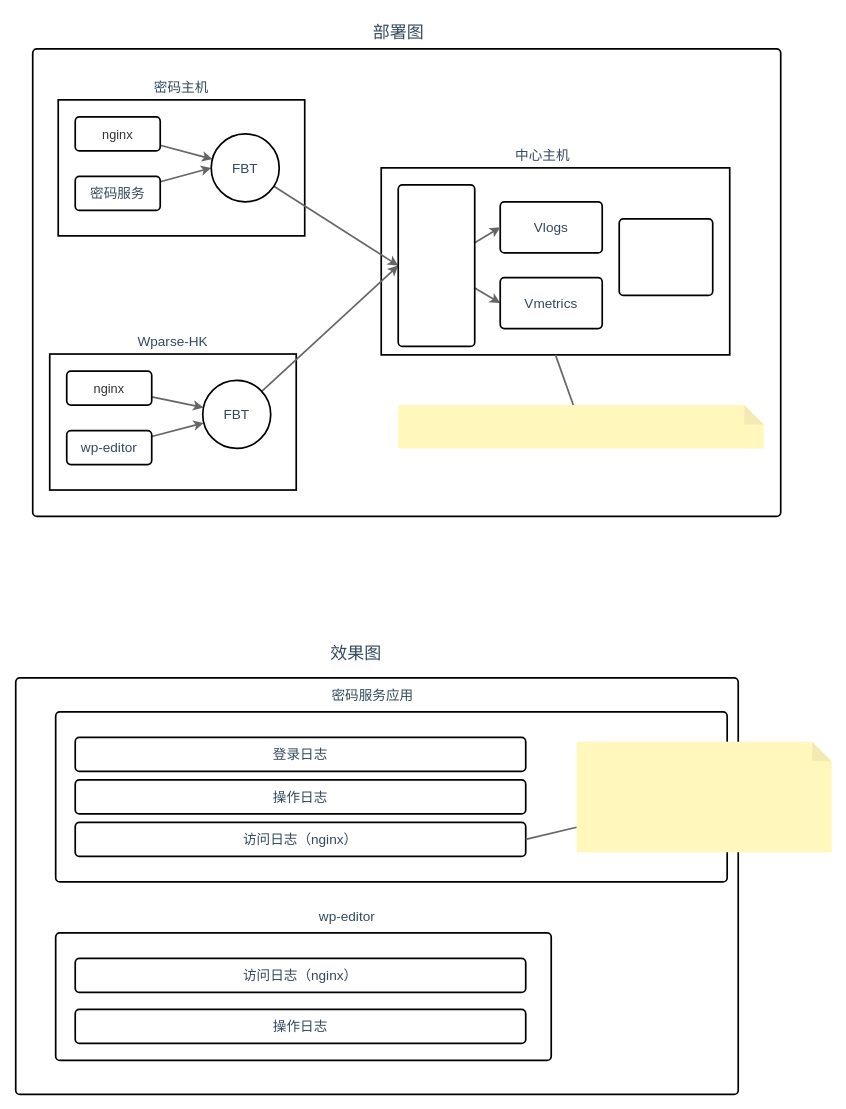
This 846x1109 diagram has some shape labels left out. Each missing label, with the centre of its shape:
wp-monitor: point 665,257
wparse: point 436,265
是否可以接入IP位置的富化？ 缺点：接入会导致很慢。 优点：这是一个重要的业务信息: point 703,796
暂时是我个人的机器，之后会迁移到wparse-HK中: point 580,426
